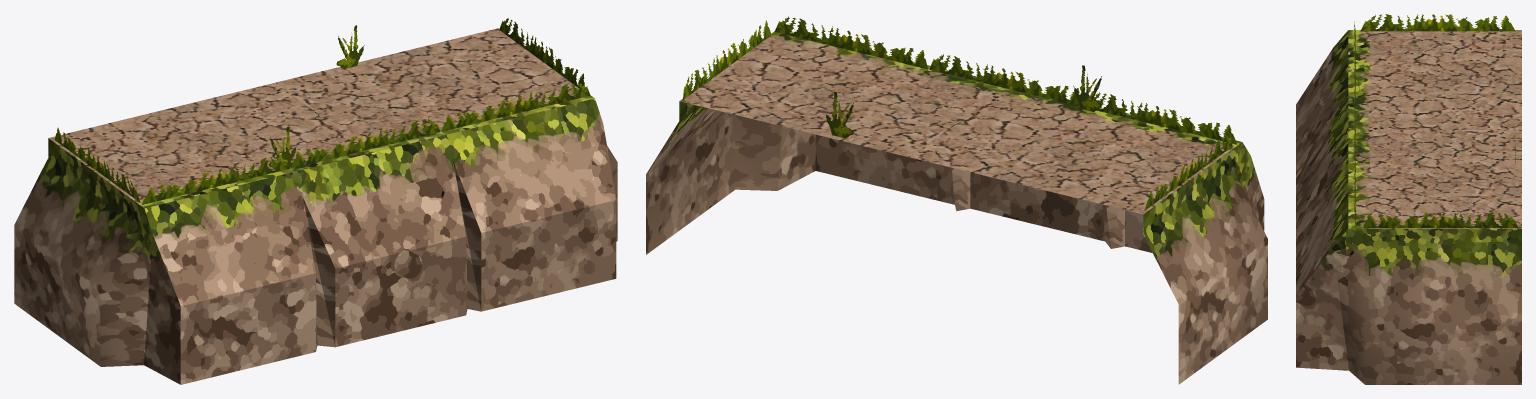
File: terreno_06.FBX
3 views of the same model, side by side, from view 1: azimuth 30°, elevation 25°; view 2: azimuth 150°, elevation 25°; view 3: azimuth 270°, elevation 25° (orthographic). The views are drawn at different scales.
Parts seen in each view (by area): view 1: Terreno012; view 2: Terreno012; view 3: Terreno012.
Boxes of the visible parts, left/top/right/bottom form: Terreno012: left=14, top=18, right=617, bottom=384; Terreno012: left=646, top=16, right=1267, bottom=384; Terreno012: left=1296, top=14, right=1521, bottom=384.
Bounding box in the file's own units: 6.88 × 2.88 × 2.57.
1 material, 1 textured.
